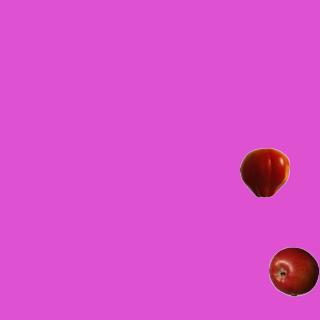Apple Braeburn: (268, 246, 318, 296)
Tomato 1: (239, 147, 289, 197)
